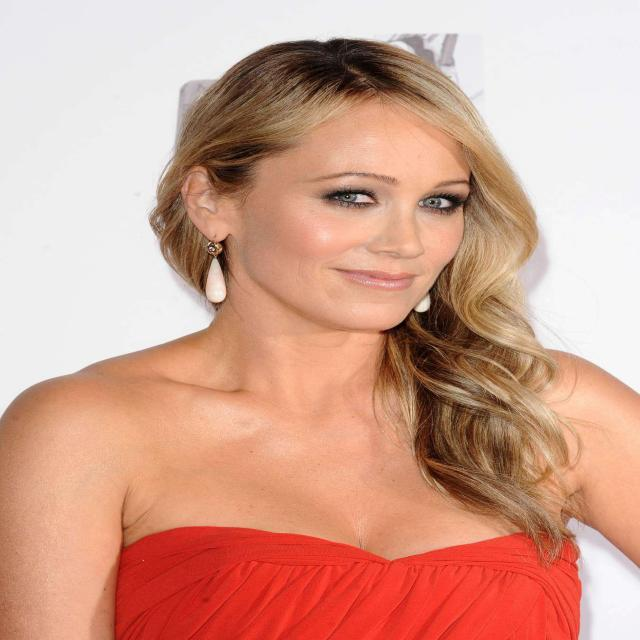no-earmuff: (168, 154, 254, 262)
